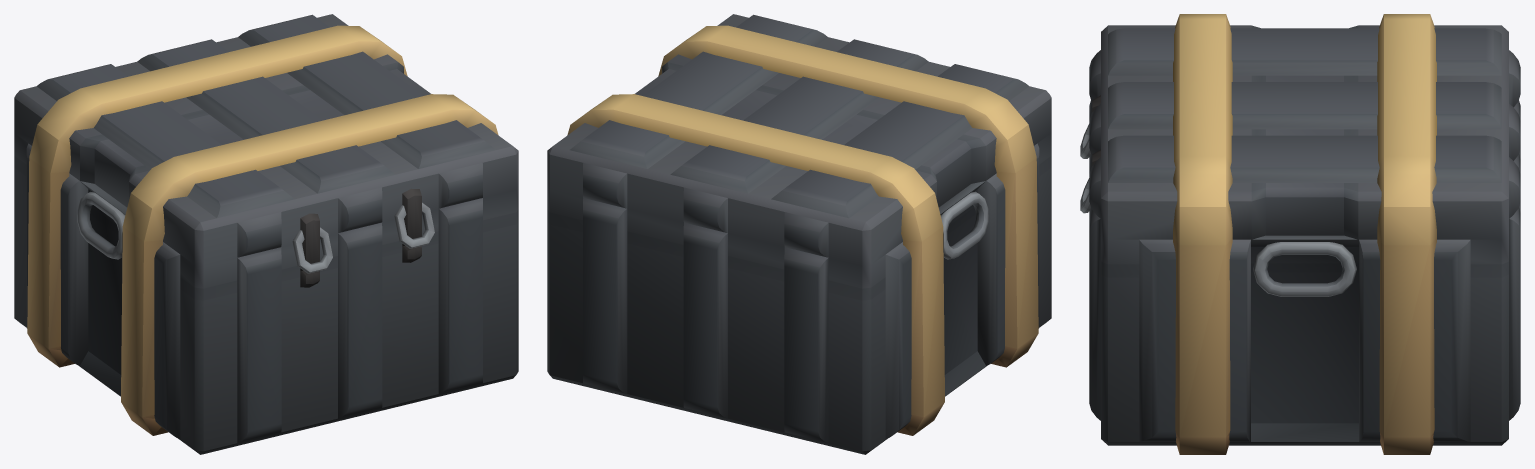
File: prop_crate_large.glb
The picture shows the model from 3 angles, left to right: view 1: azimuth 30°, elevation 25°; view 2: azimuth 150°, elevation 25°; view 3: azimuth 270°, elevation 25°; orthographic projection. The views are drawn at different scales.
Parts seen in each view (by area): view 1: prop_crate_large; view 2: prop_crate_large; view 3: prop_crate_large.
Part boxes in pixels (x1,y1,x2,y2): prop_crate_large: (14, 14, 518, 454); prop_crate_large: (547, 14, 1051, 454); prop_crate_large: (1080, 14, 1520, 454).
Bounding box in the file's own units: 1.57 × 1.05 × 1.51.
